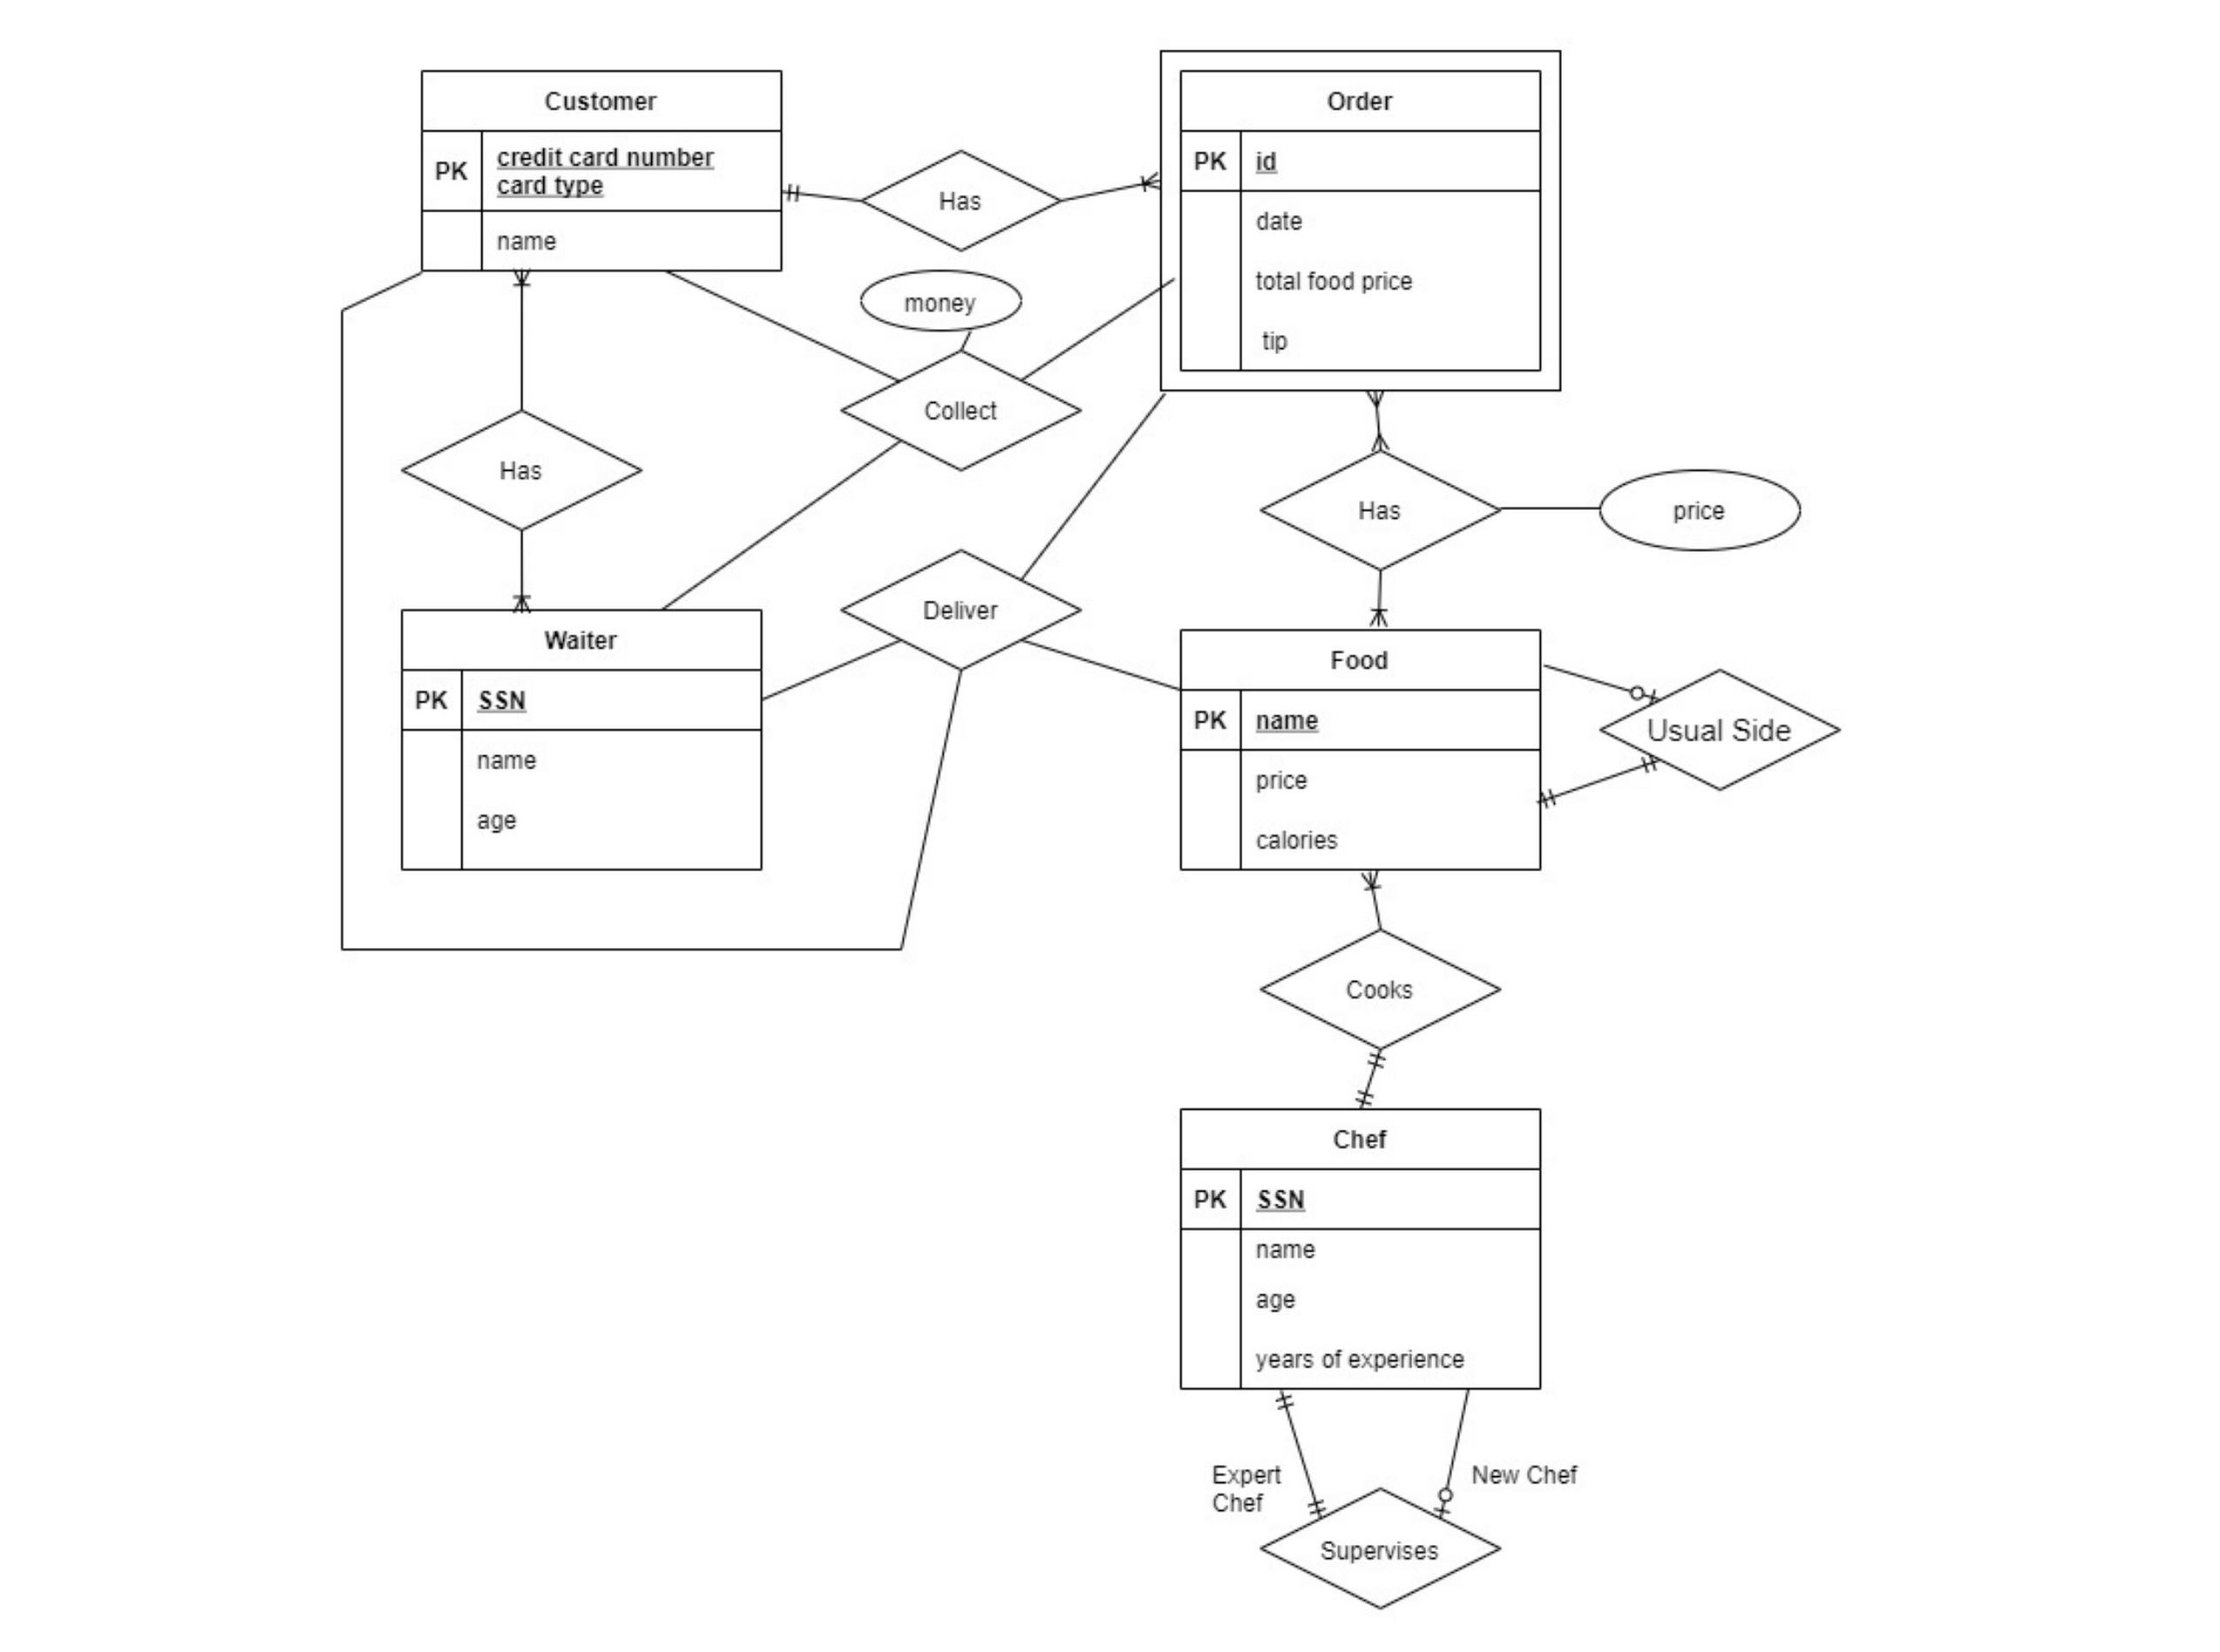Attribute: (1595, 467, 1805, 554), (857, 267, 1024, 333)
Entity: (1156, 47, 1567, 396), (1179, 1105, 1541, 1390), (399, 607, 765, 875), (1179, 626, 1547, 873), (418, 68, 786, 274)
Relationship: (840, 349, 1088, 474), (1257, 1484, 1503, 1609), (399, 408, 646, 531), (1597, 666, 1840, 791), (837, 548, 1081, 672), (1258, 451, 1501, 573), (1257, 928, 1501, 1048), (863, 147, 1064, 253)
